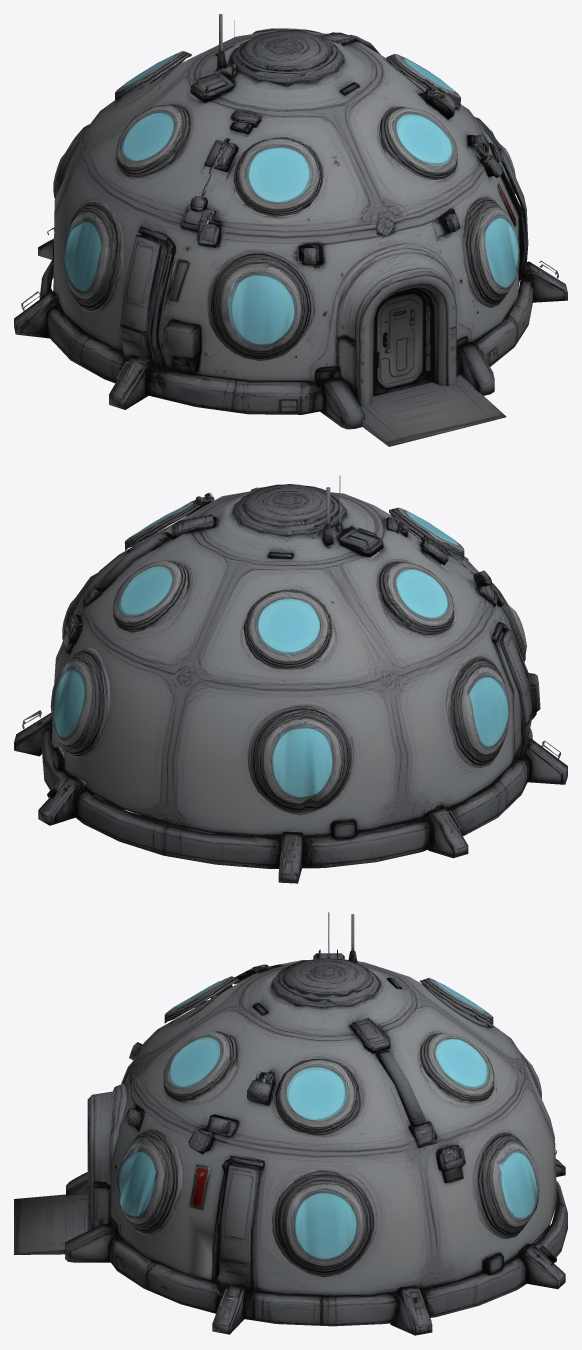
The picture shows the model from 3 angles, top to bottom: view 1: azimuth 30°, elevation 25°; view 2: azimuth 150°, elevation 25°; view 3: azimuth 270°, elevation 25°; orthographic projection. The views are drawn at different scales.
Parts seen in each view (by area): view 1: tripo_node_e3979a5a-458d-4ee0-854f-702c7b406336; view 2: tripo_node_e3979a5a-458d-4ee0-854f-702c7b406336; view 3: tripo_node_e3979a5a-458d-4ee0-854f-702c7b406336.
Boxes of the visible parts, bbox=[...] form: tripo_node_e3979a5a-458d-4ee0-854f-702c7b406336: bbox=[14, 14, 567, 446]; tripo_node_e3979a5a-458d-4ee0-854f-702c7b406336: bbox=[14, 475, 567, 883]; tripo_node_e3979a5a-458d-4ee0-854f-702c7b406336: bbox=[14, 912, 567, 1335].
Bounding box in the file's own units: 0.9121 × 0.584 × 0.998.
Materials: 1 (1 with a texture image).
